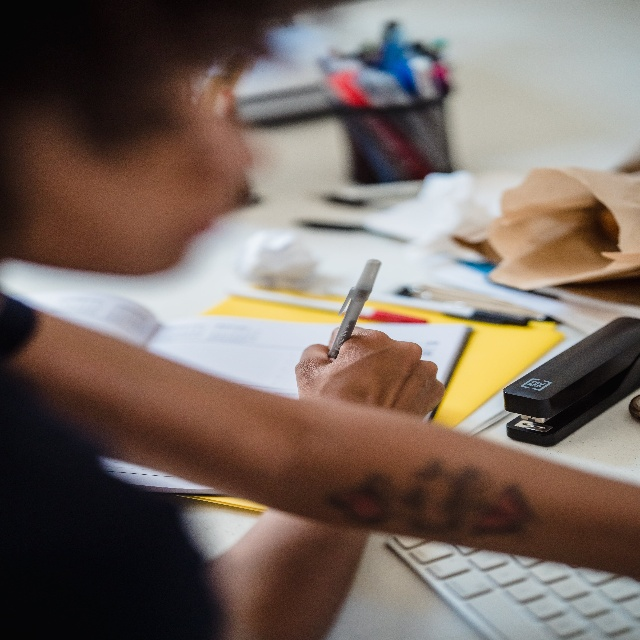Sin_guantes: (295, 324, 444, 405)
